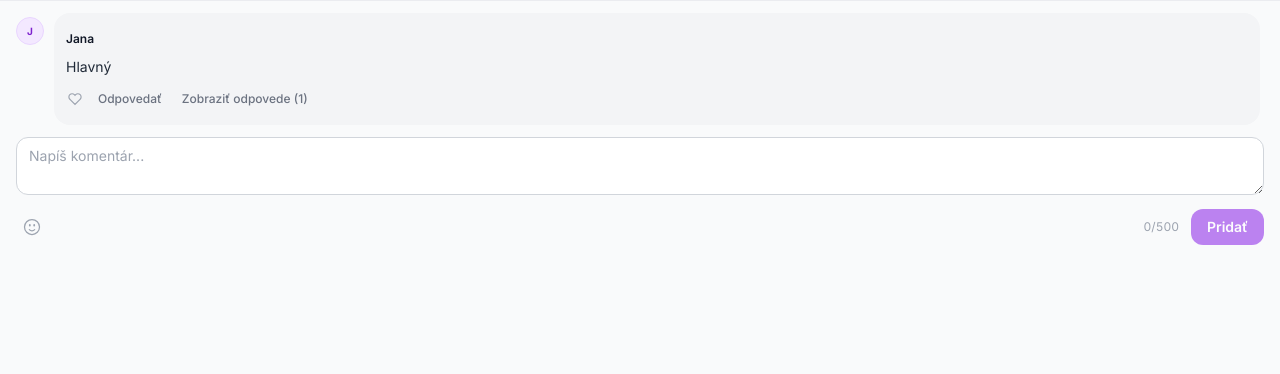
it: picks up a reply written by someone else through polling
Check: the text "Hlavný" is shown, box left=66, top=58, right=111, bottom=75
Check: the text "Cudzia odpoveď" is not shown
What coordinates should you click on to do the following:
click the button with test id "feed-comment-toggle-replies-1"
I would click on:
 (245, 99)
Its box is left=176, top=81, right=314, bottom=117.
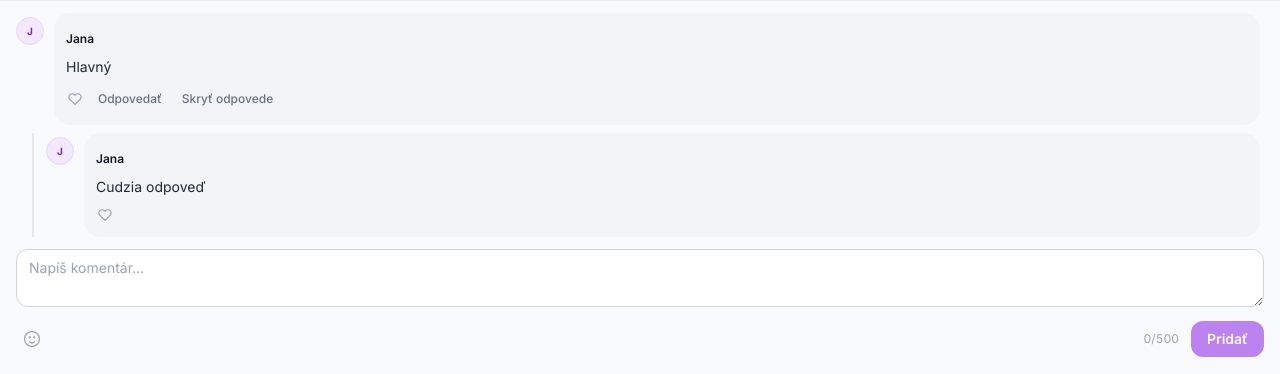
Check: the text "Cudzia odpoveď" is shown, box left=96, top=178, right=205, bottom=195
